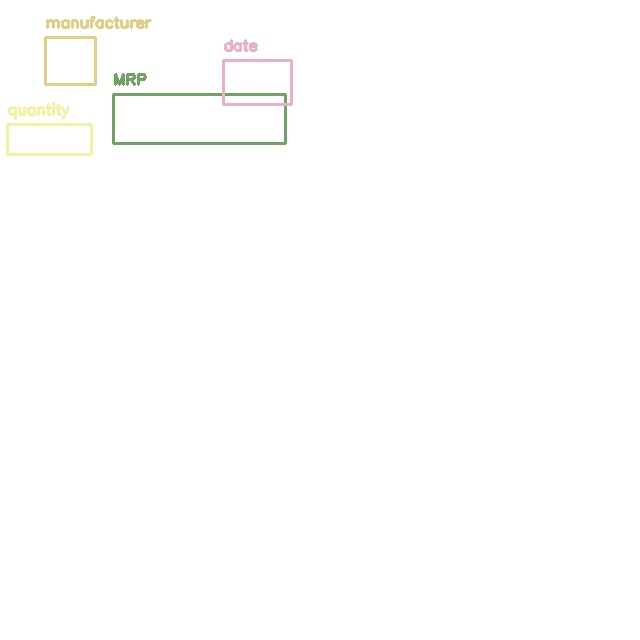MRP: (113, 94, 285, 143)
date: (223, 60, 291, 104)
manufacturer: (45, 37, 95, 84)
quantity: (7, 124, 91, 154)
